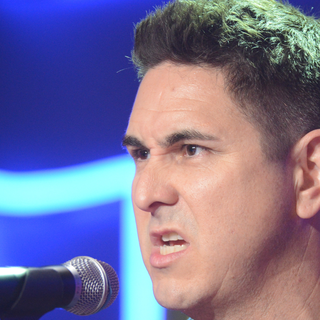eye: (168, 136, 215, 162)
